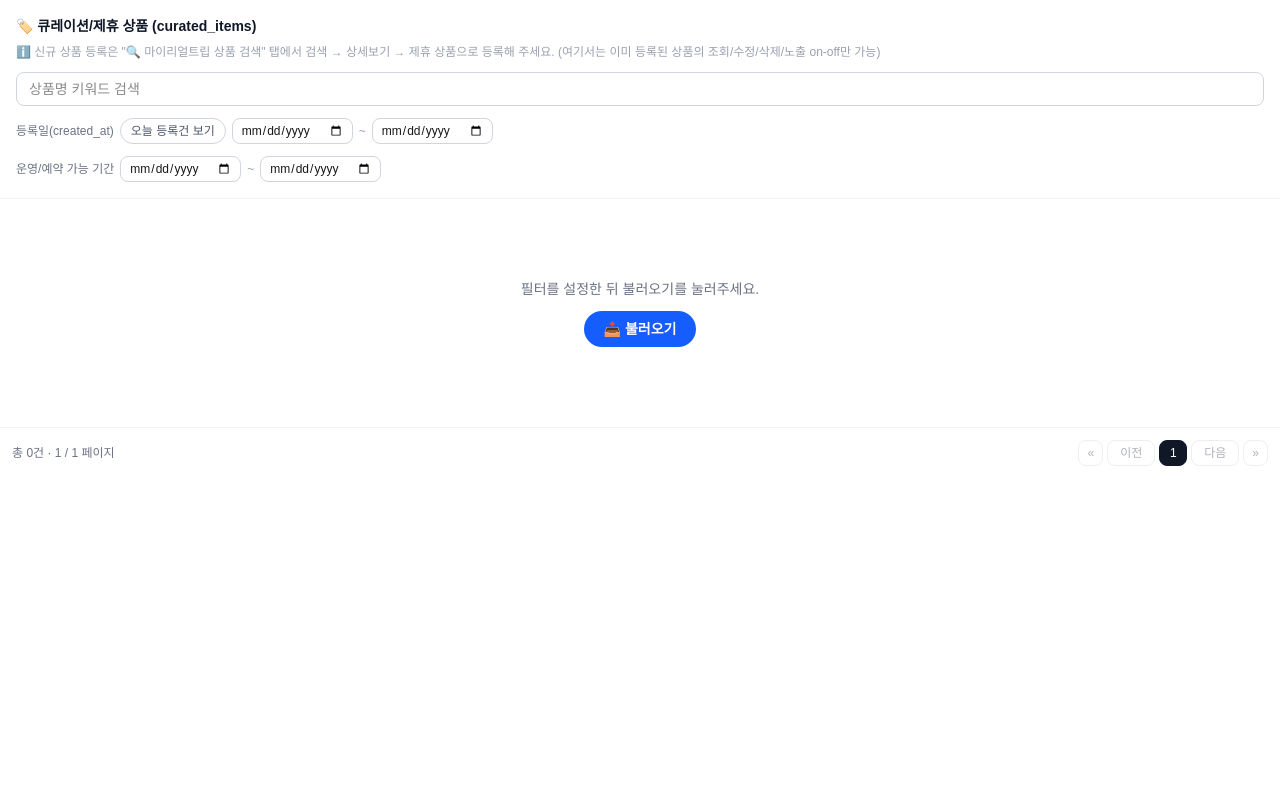
Test case: CuratedItemsPanel › [수정] 클릭 시 기존 값이 채워진 폼이 뜬다
Click the button "📥 불러오기" at (640, 329), box [584, 311, 696, 347]
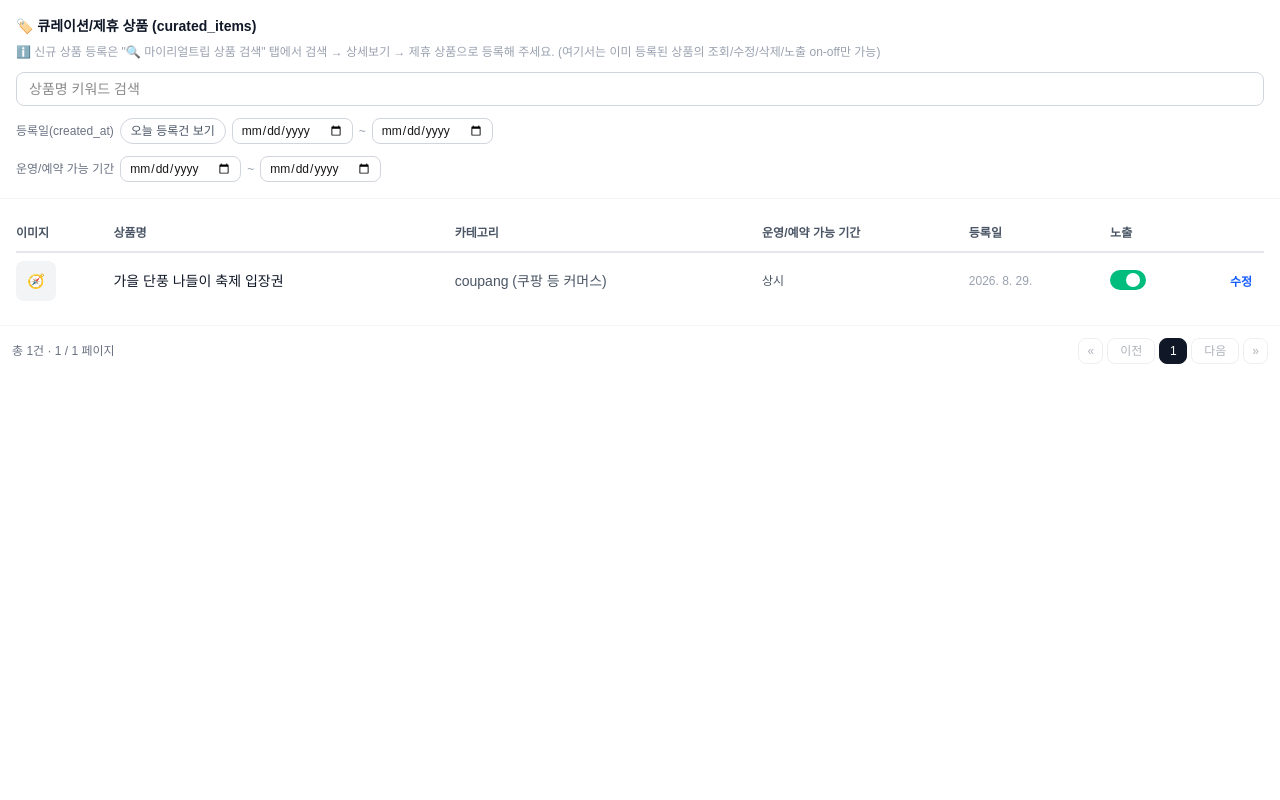
Expected: the text "가을 단풍 나들이 축제 입장권" is shown, [113, 252, 455, 309]
Click the button "수정" at (1241, 282), box [1230, 274, 1252, 290]
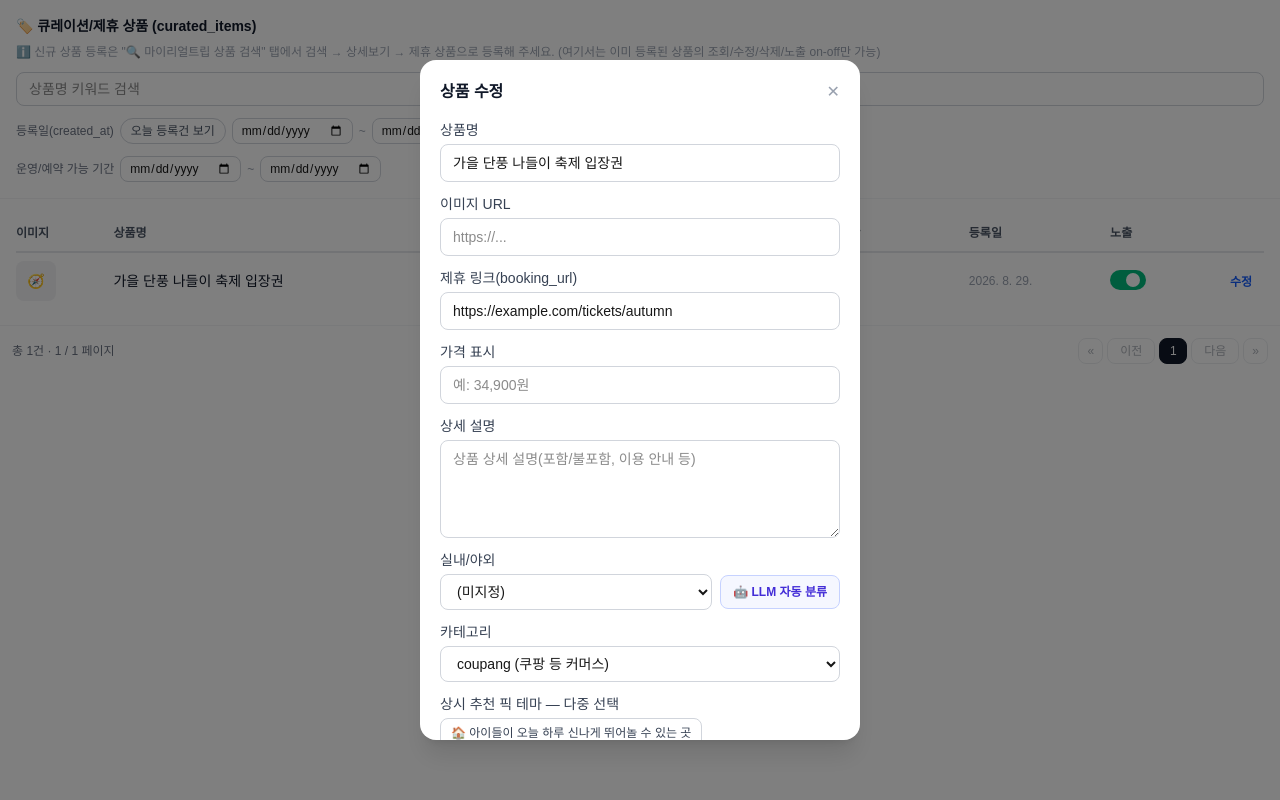
Expected: the heading "상품 수정" is shown, [440, 80, 503, 104]
Expected: the field labelled "상품명" holds "가을 단풍 나들이 축제 입장권", [440, 144, 840, 182]
Expected: the field labelled "제휴 링크(booking_url)" holds "https://example.com/tickets/autumn", [440, 292, 840, 330]
